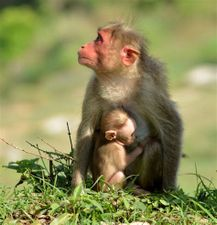monkey: (60, 10, 204, 213)
